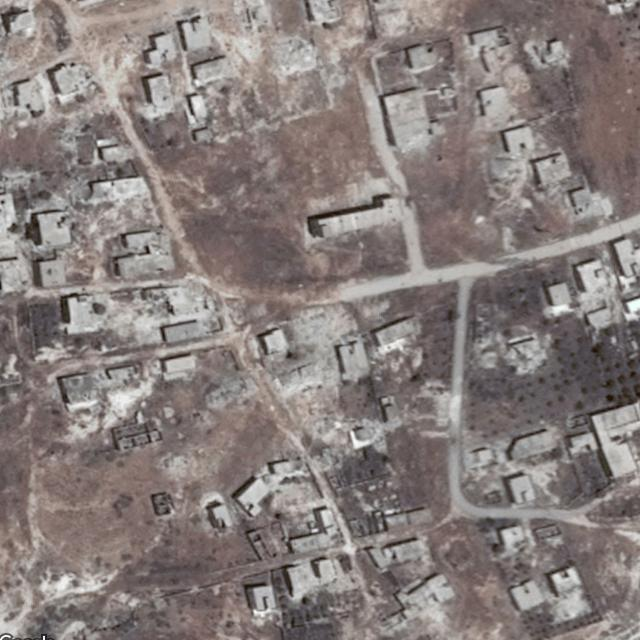damaged_building: (269, 303, 356, 399), (105, 282, 217, 341), (244, 26, 346, 86), (472, 326, 552, 376), (487, 156, 529, 203), (206, 375, 258, 407)
